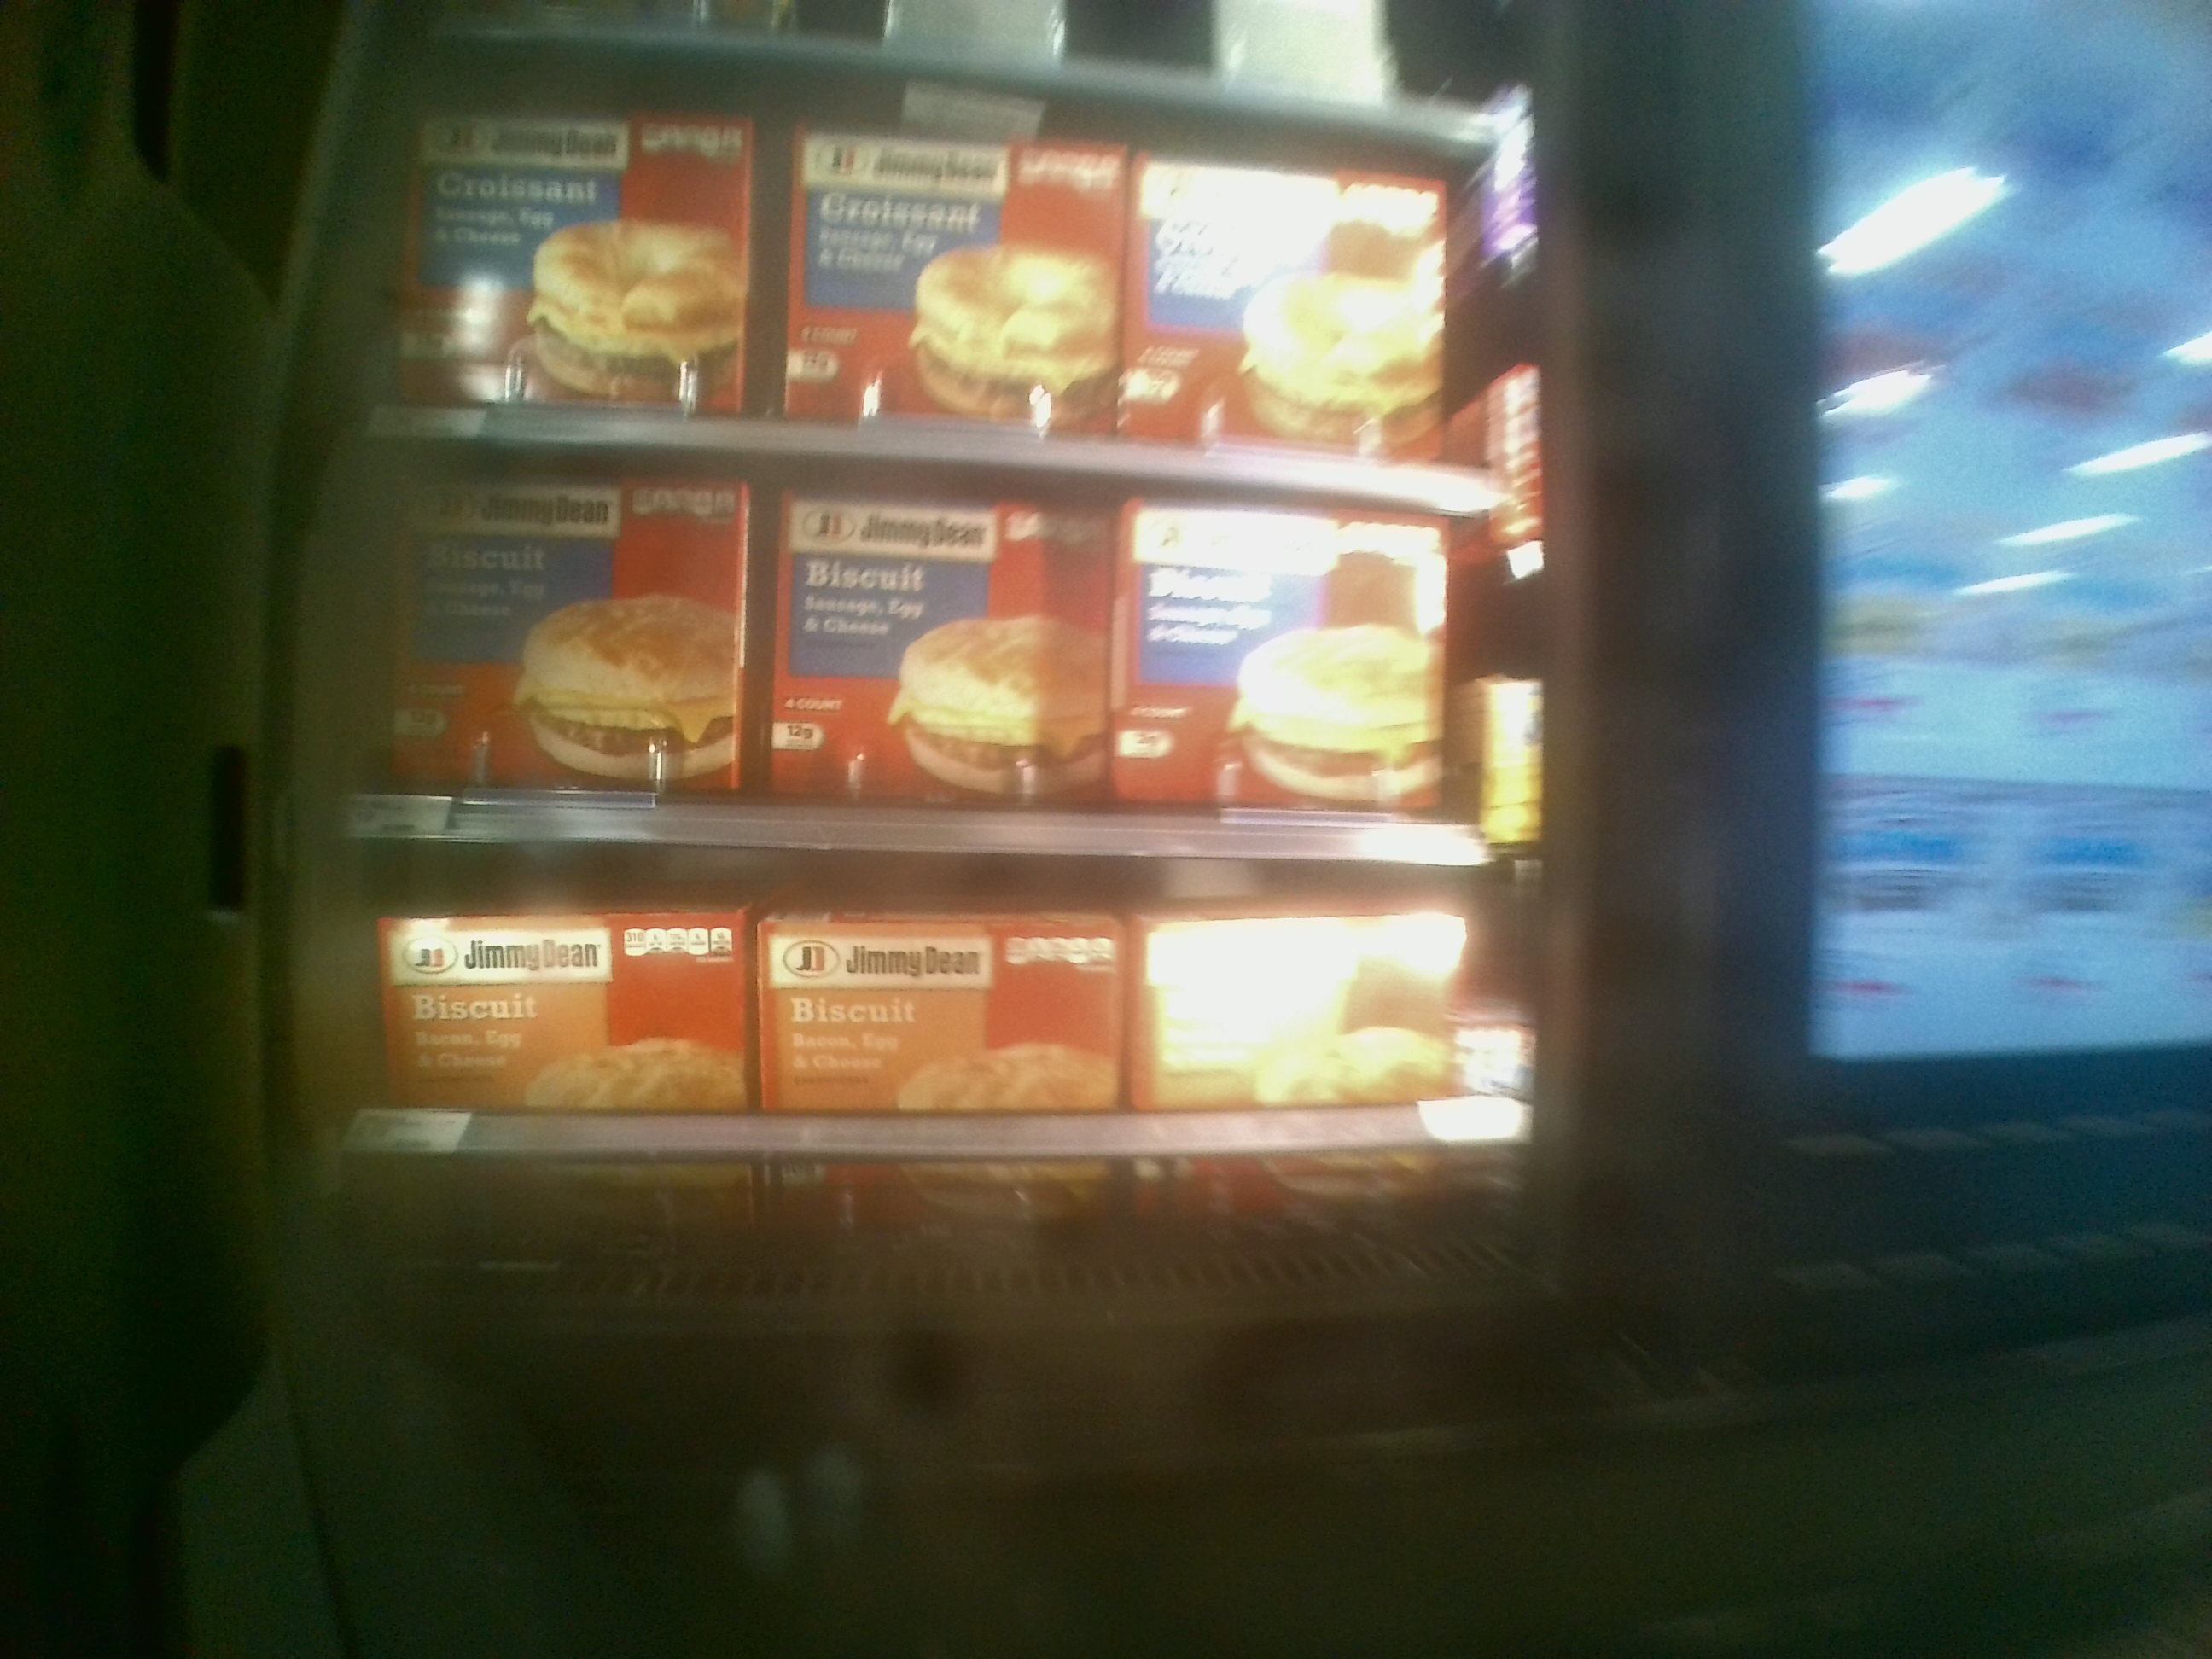shelf: (329, 427, 1529, 863), (326, 843, 1538, 1260)
